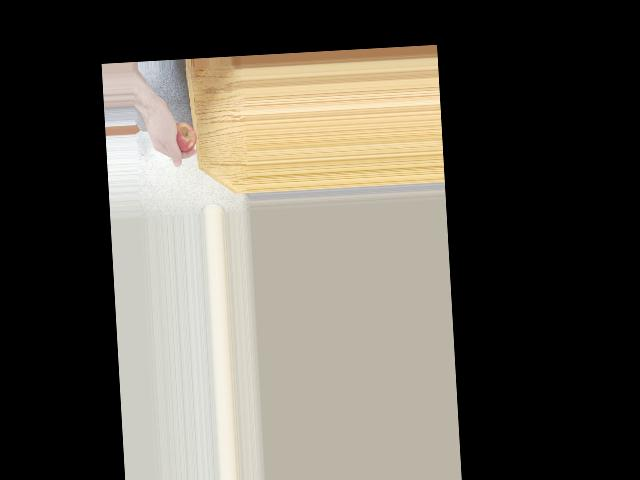apple: (166, 120, 197, 152)
